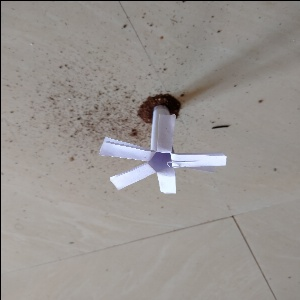weed: (100, 100, 227, 194)
